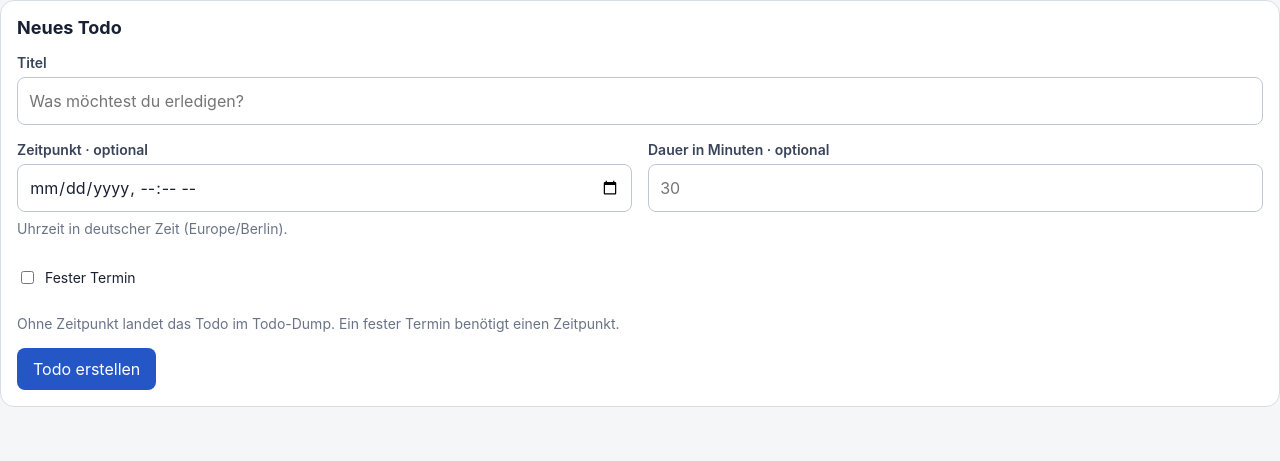
it: CreateTodoForm › rejects a fixed todo without a scheduled time
Type "Arzttermin" into the field named "title" at {"x": 640, "y": 101}, box top-left (17, 77), bottom-right (1263, 125)
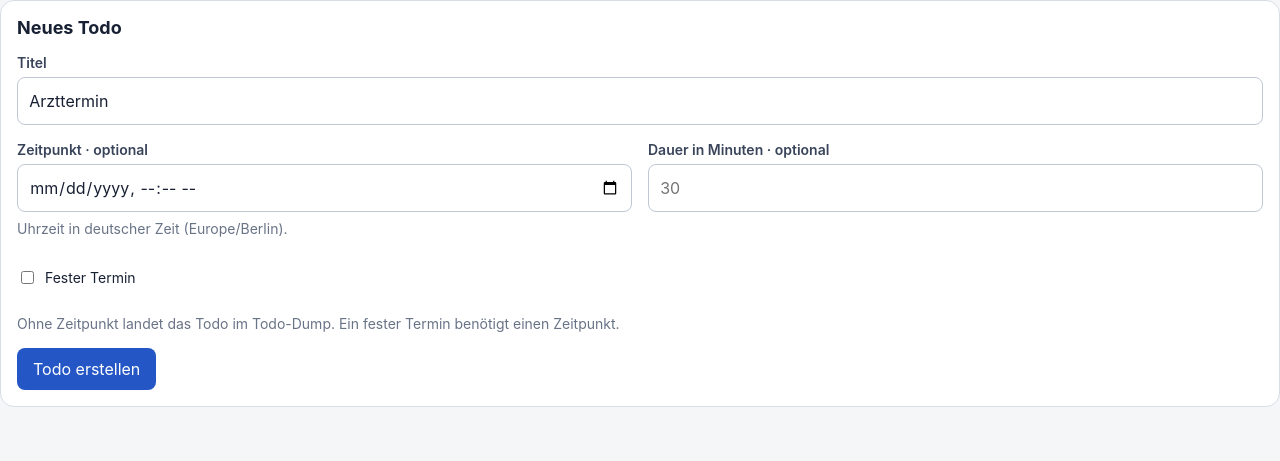
Click the checkbox named "isFixed" at {"x": 28, "y": 277}, box top-left (21, 270), bottom-right (34, 284)
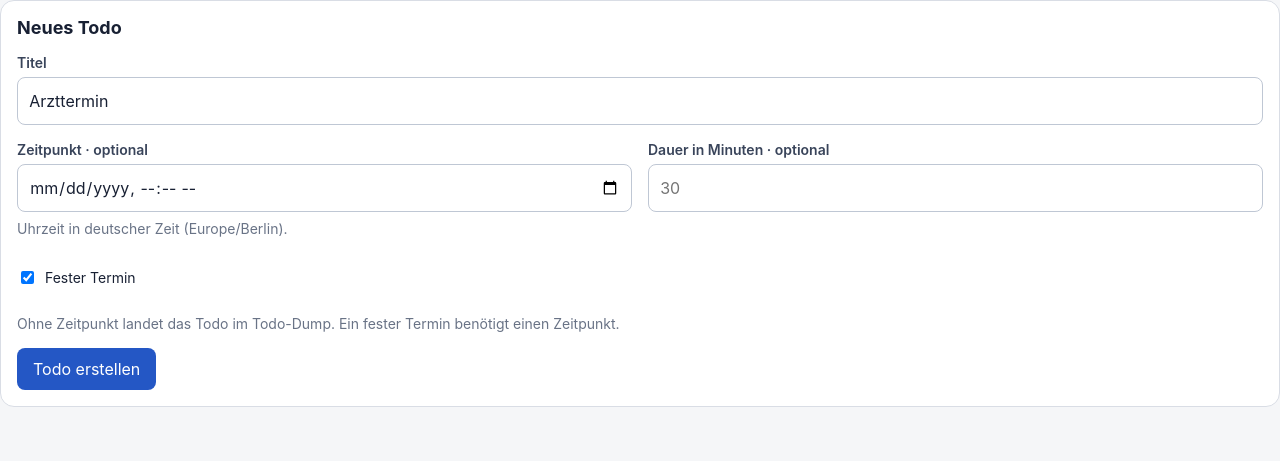
Submit the form
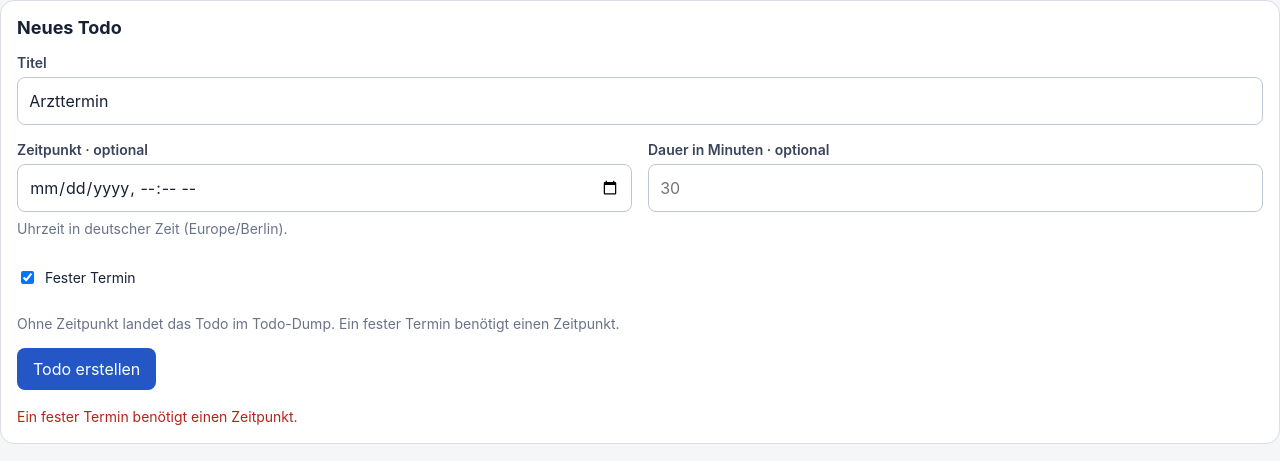
Result: the message "Ein fester Termin benötigt einen Zeitpunkt." is shown at top-left (17, 408), bottom-right (298, 425)
